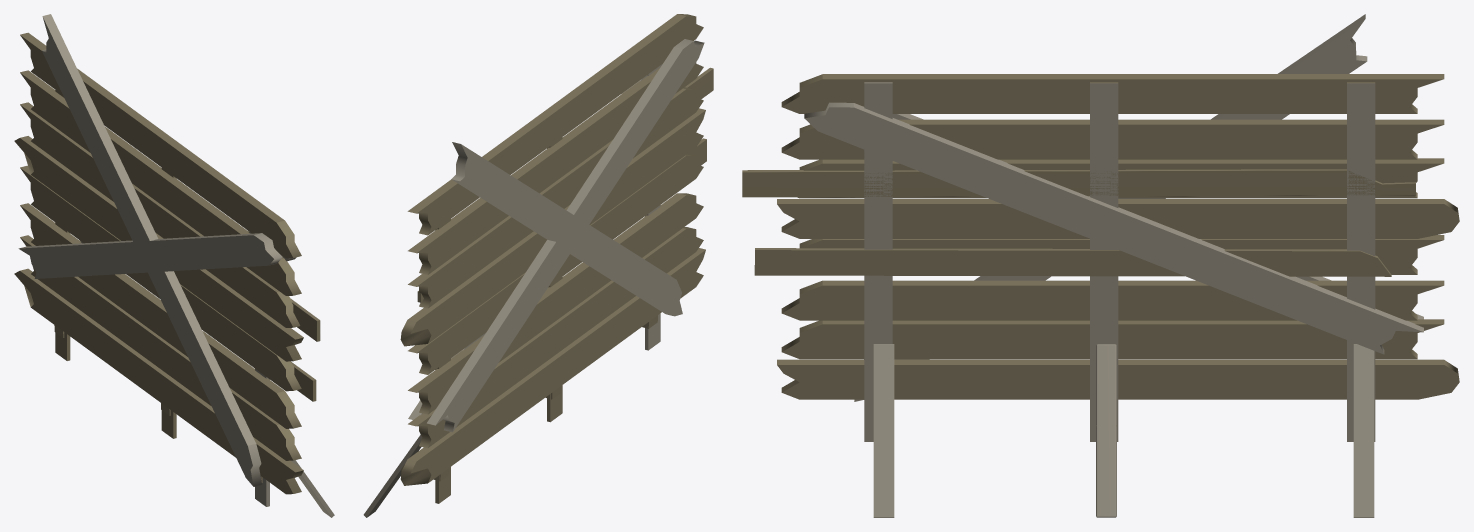
File: WOODEN WALL.fbx
3 renders of one model, left to right at view 1: azimuth 30°, elevation 25°; view 2: azimuth 150°, elevation 25°; view 3: azimuth 270°, elevation 25°, orthographic. The views are drawn at different scales.
Parts seen in each view (by area): view 1: WOODEN_WALL; view 2: WOODEN_WALL; view 3: WOODEN_WALL.
Part boxes in pixels (x1,y1,x2,y2): WOODEN_WALL: (14,14,334,517); WOODEN_WALL: (363,14,713,517); WOODEN_WALL: (742,14,1459,517).
Bounding box in the file's own units: 0.9547 × 3.83 × 5.49.
